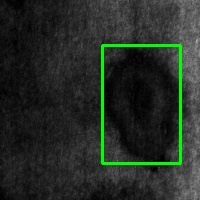patches: (102, 45, 180, 163)
